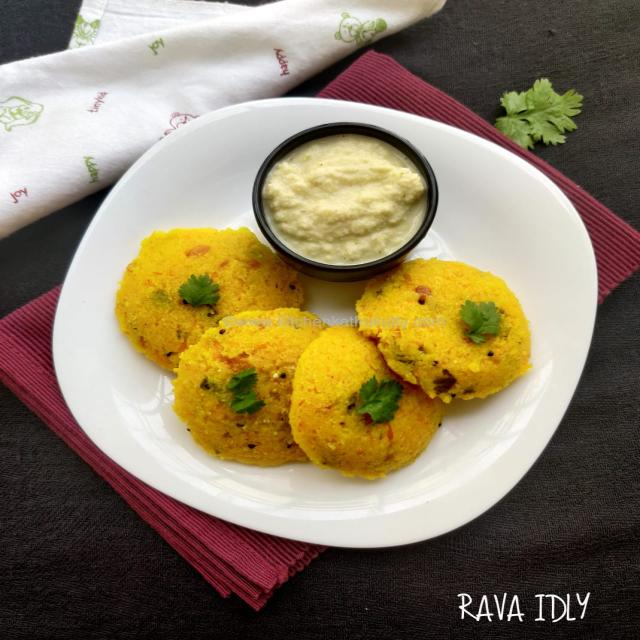rave idli: (353, 249, 549, 405), (112, 217, 306, 358), (164, 310, 322, 472), (291, 317, 442, 482)
